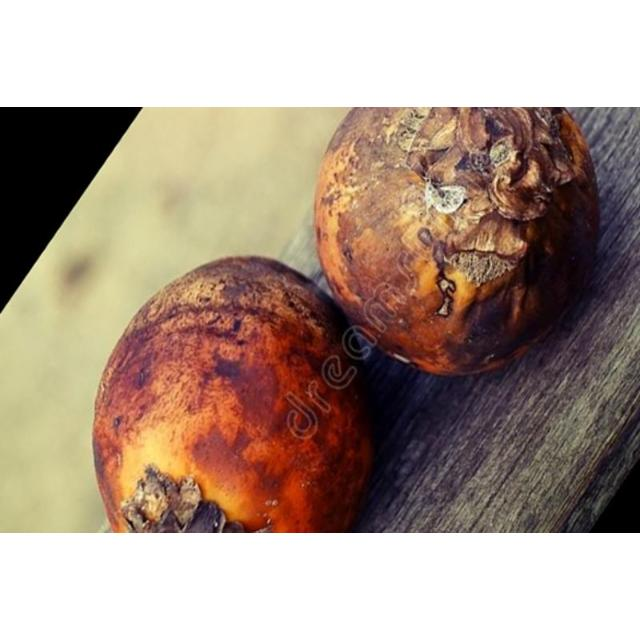damaged: (92, 256, 379, 533), (311, 107, 602, 380)
